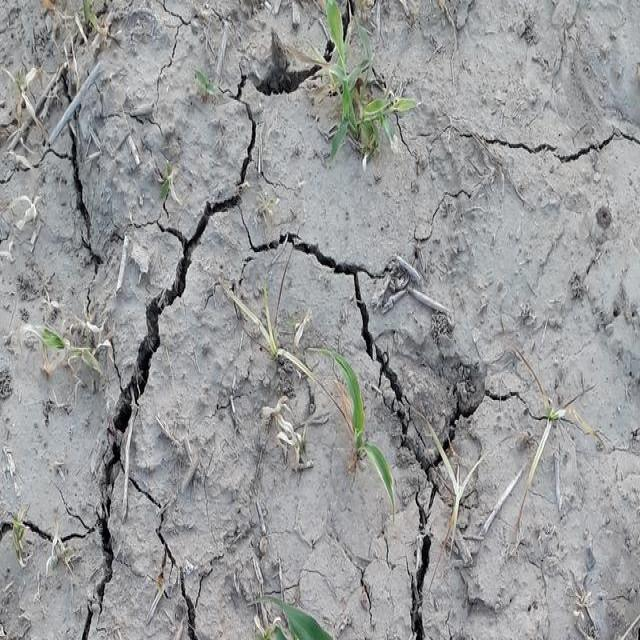weed: (253, 304, 396, 516), (298, 3, 412, 176)
